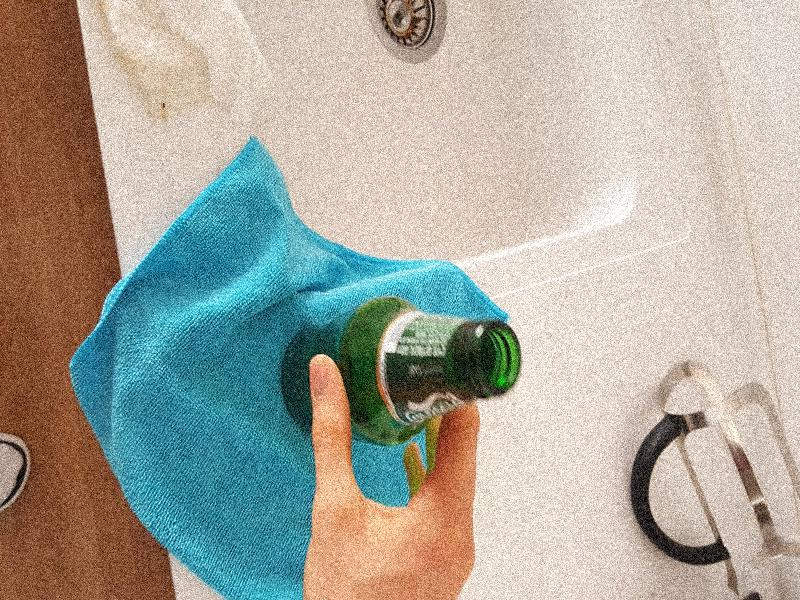Beer: (278, 298, 517, 434)
